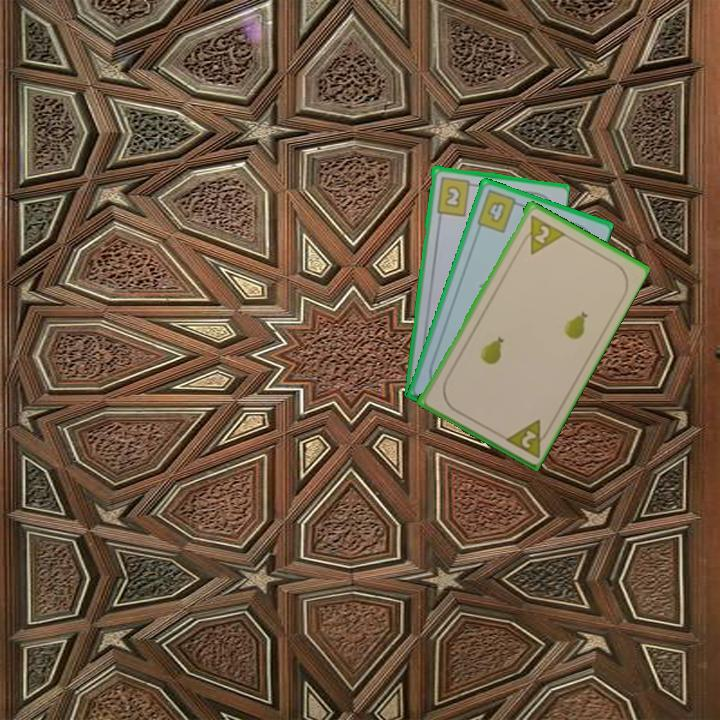2b: (433, 173, 478, 218)
2p: (517, 211, 566, 257), (517, 426, 539, 451)
4b: (473, 186, 524, 236)
